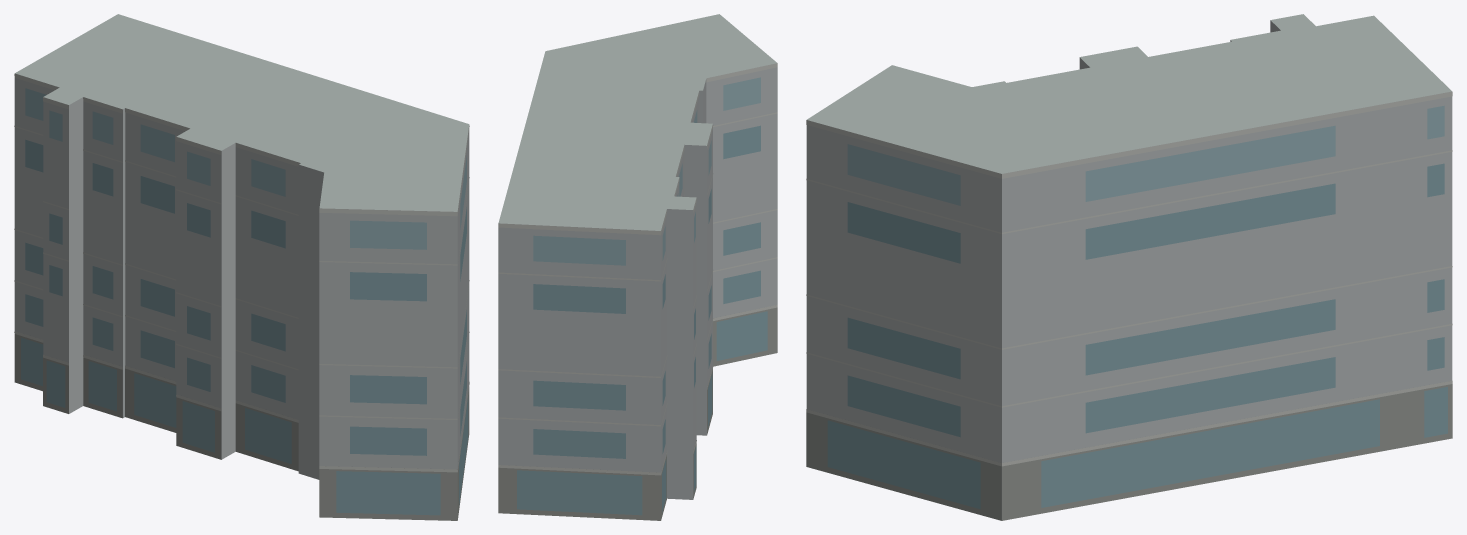
File: survey-upis-32619110.glb
3 views of the same model, side by side, from view 1: azimuth 30°, elevation 25°; view 2: azimuth 150°, elevation 25°; view 3: azimuth 270°, elevation 25° (orthographic). The views are drawn at different scales.
Parts seen in each view (by area): view 1: survey-upis-32619110.tmp; view 2: survey-upis-32619110.tmp; view 3: survey-upis-32619110.tmp.
Boxes of the visible parts, left/top/right/bottom form: survey-upis-32619110.tmp: left=14, top=14, right=469, bottom=520; survey-upis-32619110.tmp: left=498, top=14, right=777, bottom=520; survey-upis-32619110.tmp: left=806, top=14, right=1452, bottom=520.
Bounding box in the file's own units: 16.83 × 17 × 28.71.
